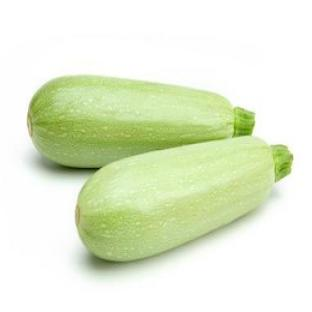Zucchini: (76, 137, 292, 261), (28, 76, 254, 167)
